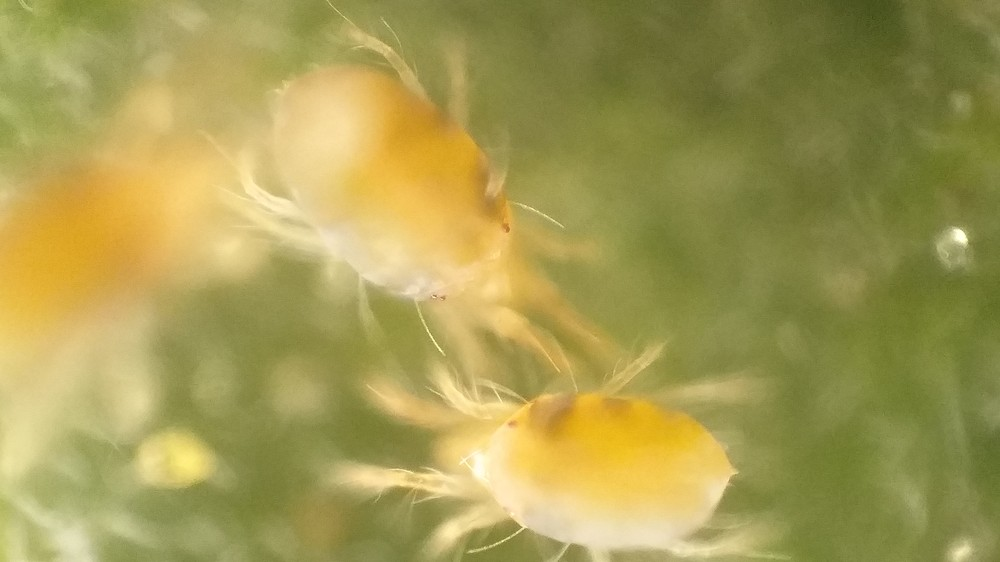Aracnido Rojo: (222, 39, 661, 390), (356, 368, 768, 562)
